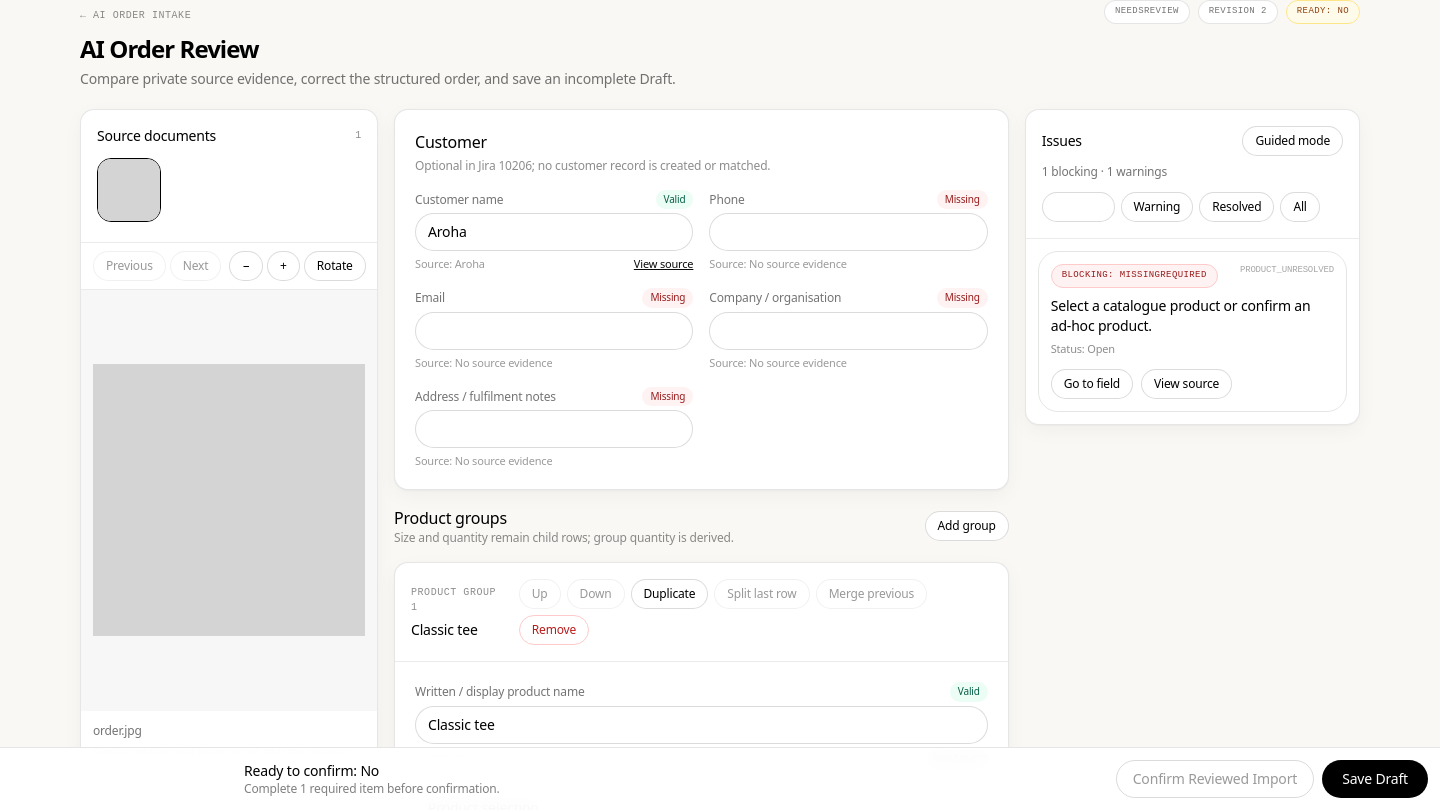
Test: AI Order Review workspace › accepts a warning only with a written reason
Expected: the heading "Issues" is shown, [1042, 131, 1082, 151]
Click the button "Warning" at (1157, 207), box [1120, 192, 1193, 222]
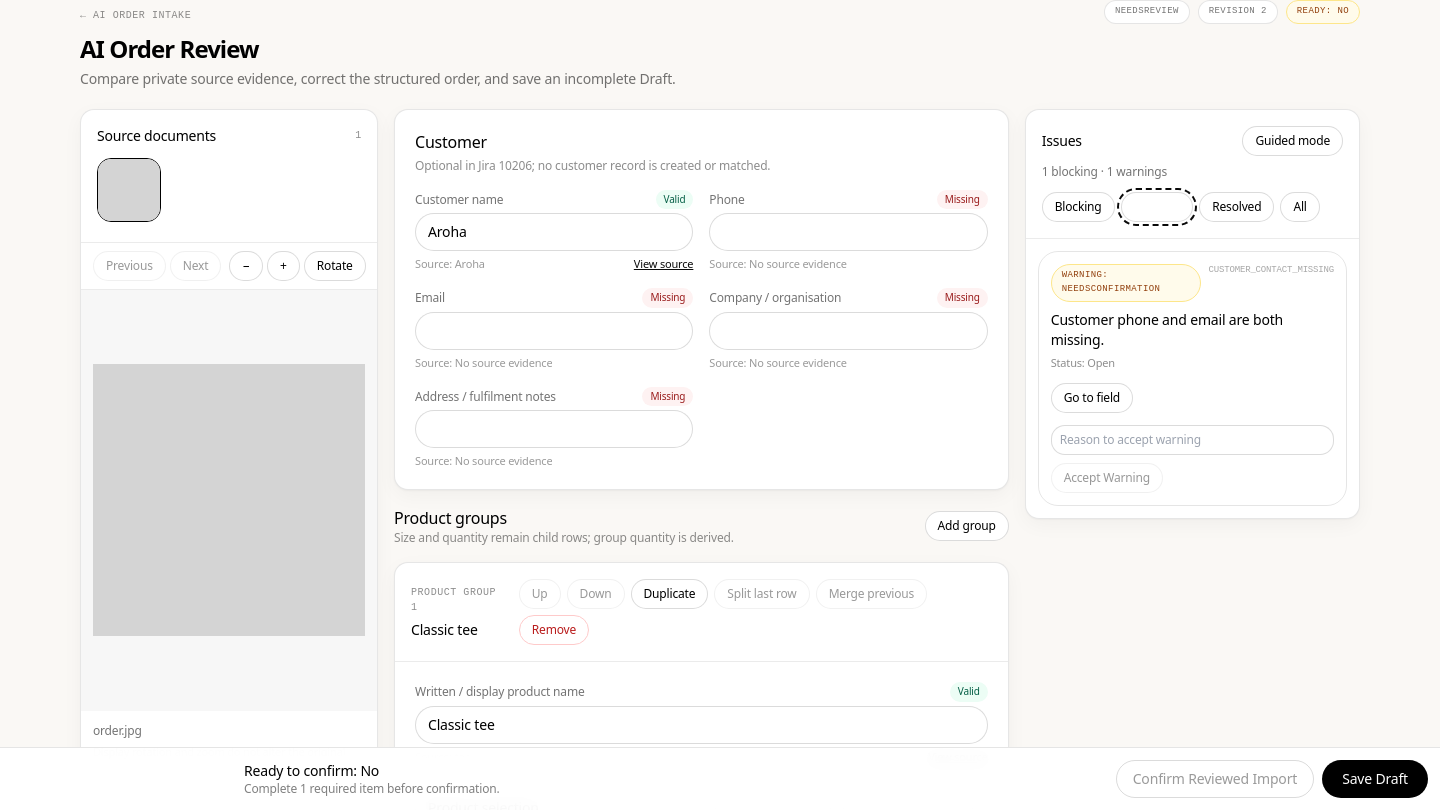
Expected: the button "Accept Warning" is disabled, [1051, 463, 1163, 493]
Type "Contact is optional for this Draft" into the field named "Reason to accept CUSTOMER_CONTACT_MISSING" at (1192, 440), box [1051, 425, 1334, 455]
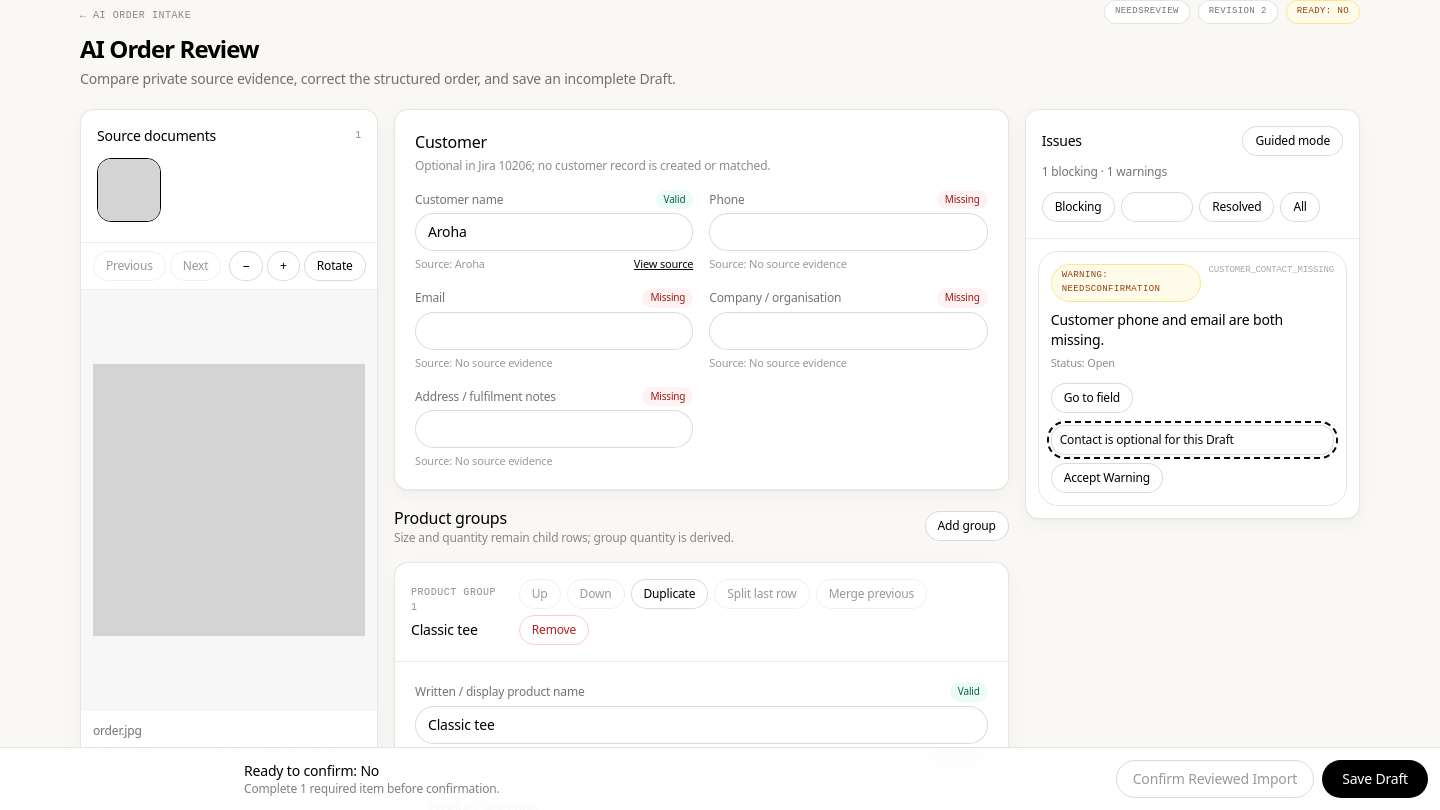
Expected: the button "Accept Warning" is enabled, [1051, 463, 1163, 493]
